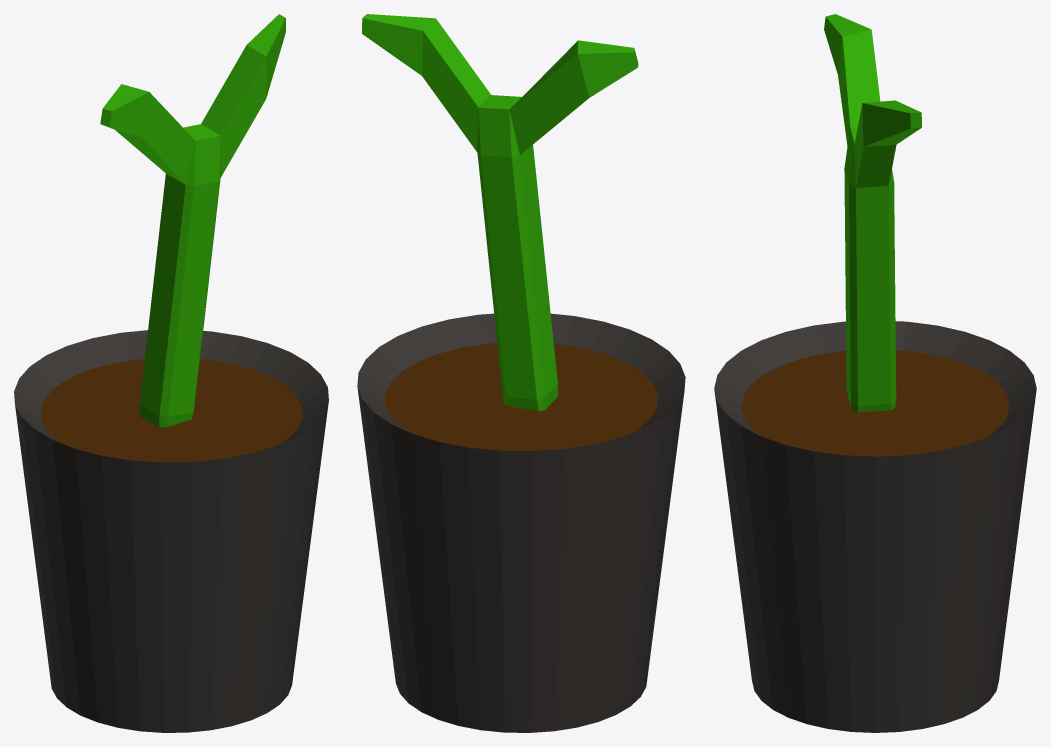
Rendered from PlantPot.fbx.
3 views of the same model, side by side, from view 1: azimuth 30°, elevation 25°; view 2: azimuth 150°, elevation 25°; view 3: azimuth 270°, elevation 25° (orthographic). The views are drawn at different scales.
Visible parts, largest first — view 1: Cylinder, Cube; view 2: Cylinder, Cube; view 3: Cylinder, Cube.
Part boxes in pixels (x1,y1,x2,y2): Cylinder: [14, 330, 328, 732]; Cube: [100, 14, 285, 427]; Cylinder: [357, 313, 685, 732]; Cube: [362, 14, 638, 411]; Cylinder: [714, 321, 1036, 732]; Cube: [824, 14, 921, 412].
Size of the model in its own units: 200 by 433 by 200.
